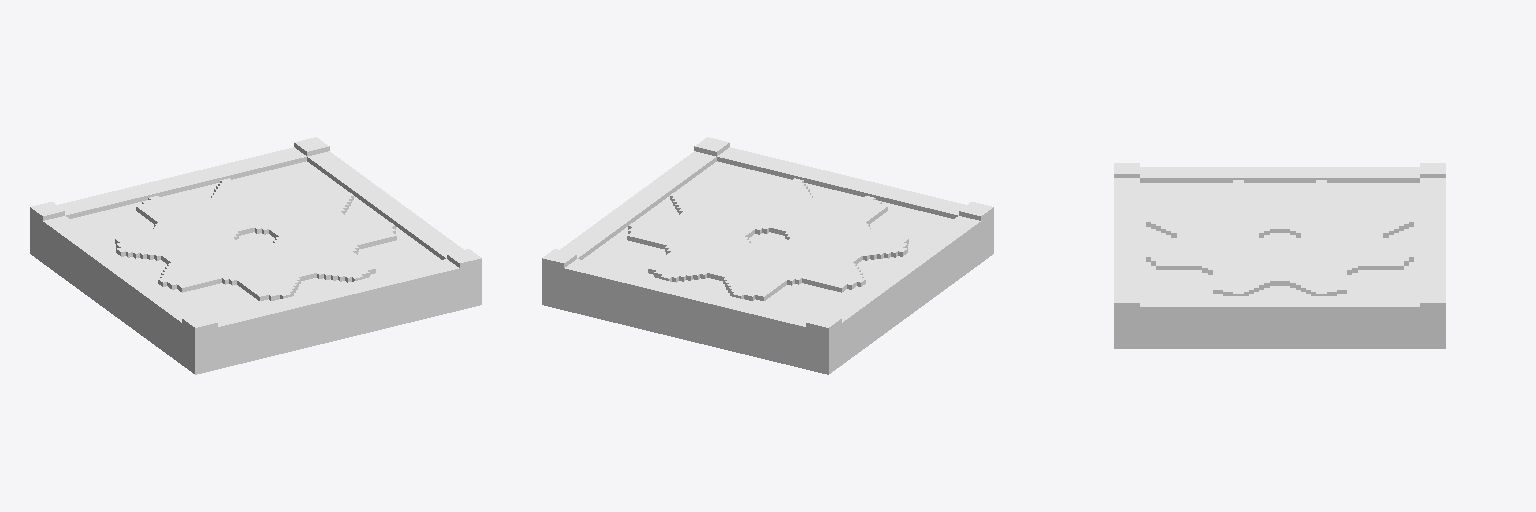
File: TurnRight.obj
The picture shows the model from 3 angles: view 1: azimuth 30°, elevation 25°; view 2: azimuth 150°, elevation 25°; view 3: azimuth 270°, elevation 25°; orthographic projection.
Size of the model in its own units: 64 by 10 by 64.